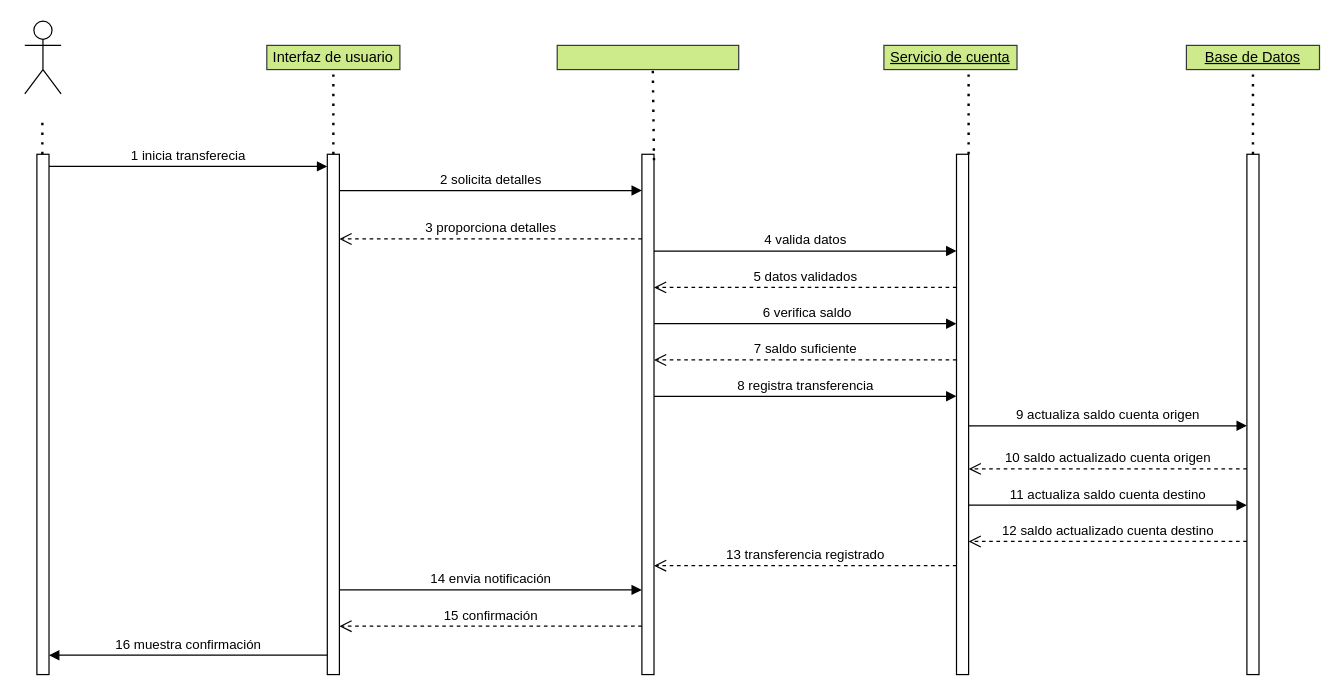
This 1341x696 diagram has some shape labels left out. The centre of each missing label's shape, as x and y in pixels:
"Cliente" belongs at point (42, 57).
"Gestión de transferencia" belongs at point (647, 57).
